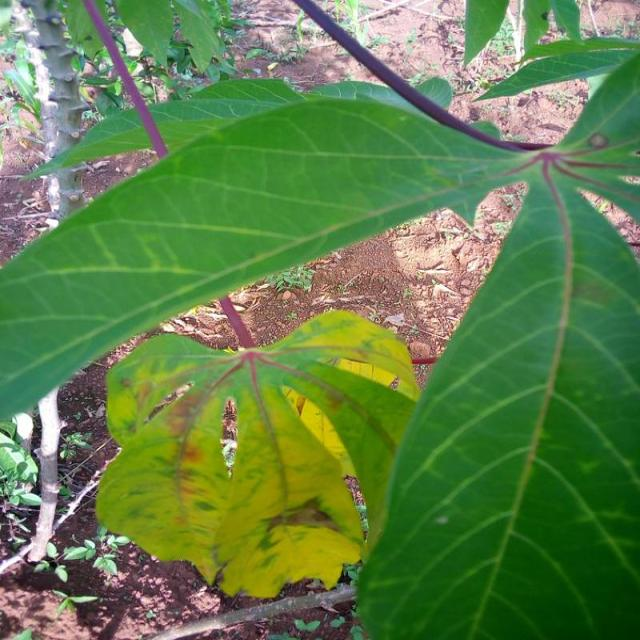cassava leaf: (0, 77, 542, 420), (354, 160, 640, 638), (94, 307, 421, 600)
